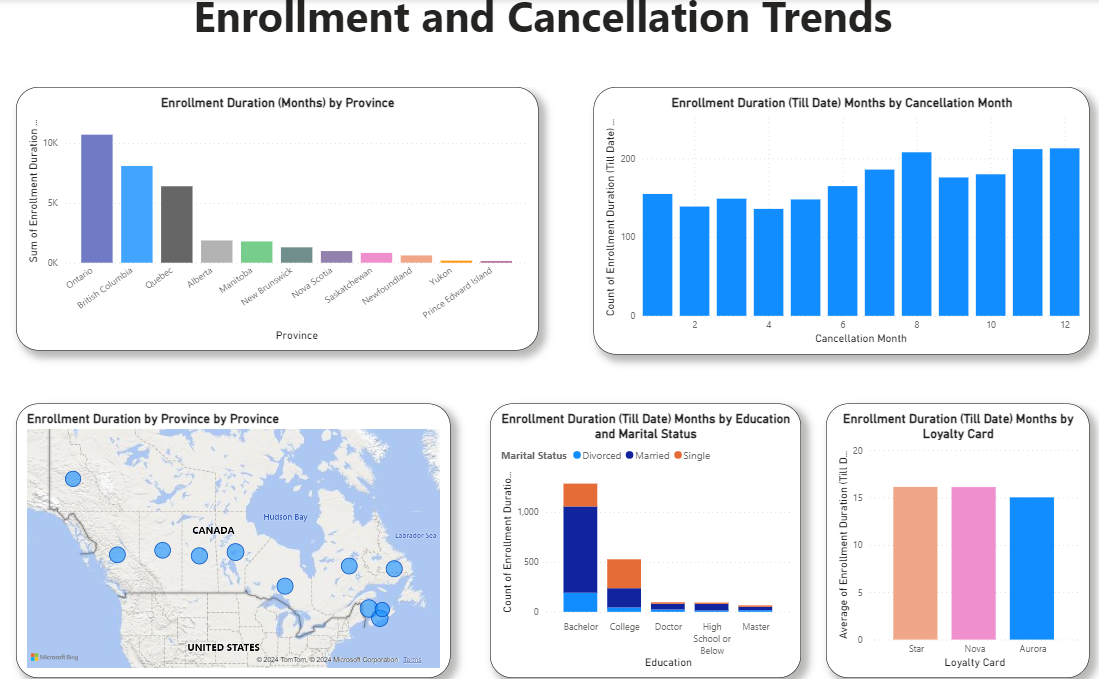

This screenshot's page, from the dashboard's own definition file:
{"tool":"powerbi","page":{"name":"Enrollment and Cancellation Trends","canvas":[1500,950],"ordinal":3},"visuals":[{"type":"columnChart","title":"Enrollment Duration (Months) by Province","fields":{"Category":["Customer Loyalty History.Province"],"Y":["Sum(Customer Loyalty Cancellation.Enrollment Duration (Months))"]},"box":[40.3,140.3,696.8,351.6],"z":0},{"type":"map","title":"Enrollment Duration by Province by Province","fields":{"Category":["Customer Loyalty History.Province"],"Size":["Customer Loyalty History.Average Enrollment Duration by Province"]},"box":[40.3,561.3,579,366.1],"z":1000},{"type":"columnChart","title":"Enrollment Duration (Till Date) Months by Cancellation Month","fields":{"Category":["Customer Loyalty Cancellation.Cancellation Month"],"Y":["CountNonNull(Customer Loyalty Cancellation.Enrollment Duration (Till Date) Months)"]},"box":[809.7,140.3,661.3,356.5],"z":2000},{"type":"columnChart","title":"Enrollment Duration (Till Date) Months by Education and Marital Status","fields":{"Category":["Customer Loyalty Cancellation.Education"],"Y":["CountNonNull(Customer Loyalty Cancellation.Enrollment Duration (Till Date) Months)"],"Series":["Customer Loyalty Cancellation.Marital Status"]},"box":[672.6,561.3,414.5,366.1],"z":3000},{"type":"columnChart","title":"Enrollment Duration (Till Date) Months by Loyalty Card","fields":{"Category":["Customer Loyalty Cancellation.Loyalty Card"],"Y":["Avg(Customer Loyalty Cancellation.Enrollment Duration (Till Date) Months)"]},"box":[1119.4,561.3,351.6,366.1],"z":4000},{"type":"textbox","box":[0,0,1500,140.3],"z":5000}]}

Visuals, with their boxes in screenshot pixels (x1, y1, x2, y2), scaled from the page's 1500x950 canvas onto the 1099x679 screenshot:
"Enrollment Duration (Months) by Province" columnChart: <bbox>30, 100, 540, 352</bbox>
"Enrollment Duration by Province by Province" map: <bbox>30, 401, 454, 663</bbox>
"Enrollment Duration (Till Date) Months by Cancellation Month" columnChart: <bbox>593, 100, 1078, 355</bbox>
"Enrollment Duration (Till Date) Months by Education and Marital Status" columnChart: <bbox>493, 401, 796, 663</bbox>
"Enrollment Duration (Till Date) Months by Loyalty Card" columnChart: <bbox>820, 401, 1078, 663</bbox>
textbox: <bbox>0, 0, 1098, 100</bbox>
